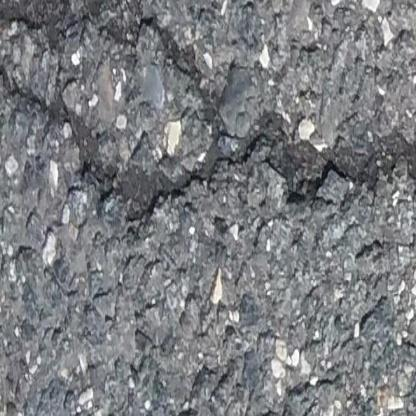Cracks: (0, 0, 416, 236)
